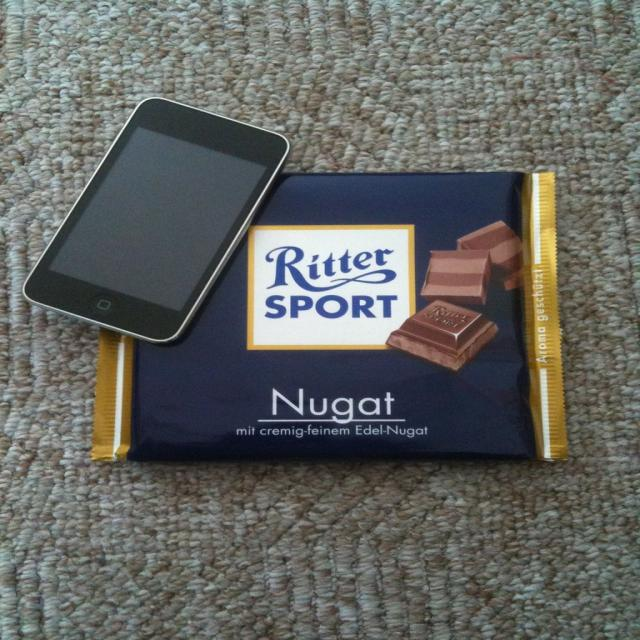rittersport: (248, 226, 416, 352)
